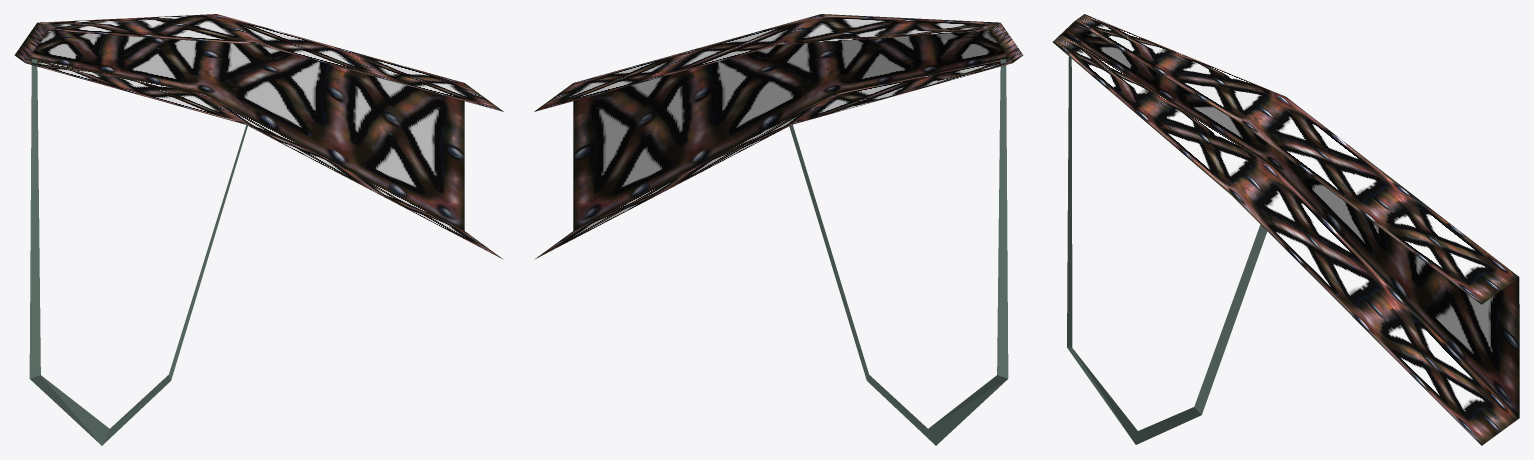
File: Kran_MitSeil_769.glb
The picture shows the model from 3 angles, left to right: view 1: azimuth 30°, elevation 25°; view 2: azimuth 150°, elevation 25°; view 3: azimuth 330°, elevation 25°; orthographic projection. The views are drawn at different scales.
Parts seen in each view (by area): view 1: pPlaneShape2, pPlaneShape3, pCylinderShape16, pPlaneShape5, pPlaneShape4; view 2: pPlaneShape1, pPlaneShape3, pCylinderShape16, pPlaneShape5, pPlaneShape4; view 3: pPlaneShape5, pPlaneShape3, pPlaneShape2, pCylinderShape16.
Part boxes in pixels (left/top/right/bottom): pPlaneShape2: left=29, top=30, right=464, bottom=230; pPlaneShape3: left=37, top=14, right=503, bottom=111; pCylinderShape16: left=29, top=59, right=247, bottom=445; pPlaneShape5: left=25, top=58, right=502, bottom=258; pPlaneShape4: left=14, top=23, right=47, bottom=62; pPlaneShape1: left=573, top=30, right=1008, bottom=230; pPlaneShape3: left=534, top=14, right=1000, bottom=111; pCylinderShape16: left=789, top=59, right=1008, bottom=445; pPlaneShape5: left=535, top=58, right=1012, bottom=258; pPlaneShape4: left=990, top=23, right=1023, bottom=62; pPlaneShape5: left=1053, top=34, right=1519, bottom=445; pPlaneShape3: left=1074, top=14, right=1518, bottom=304; pPlaneShape2: left=1063, top=22, right=1519, bottom=417; pCylinderShape16: left=1067, top=44, right=1267, bottom=444.
Bounding box in the file's own units: 0.4499 × 0.4014 × 0.0717.
Materials: 6 (5 with a texture image).
